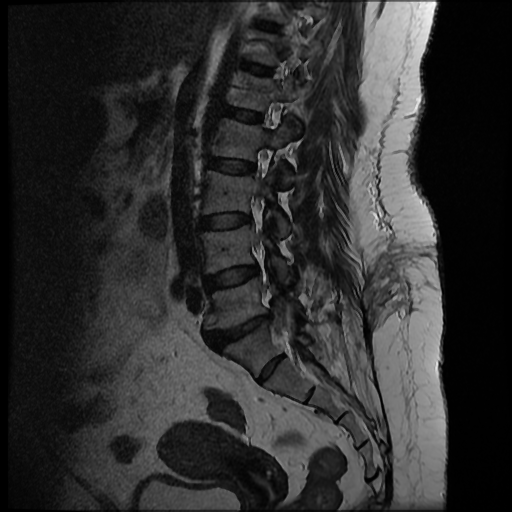RFS0: (249, 89, 295, 139), (238, 141, 285, 188)
